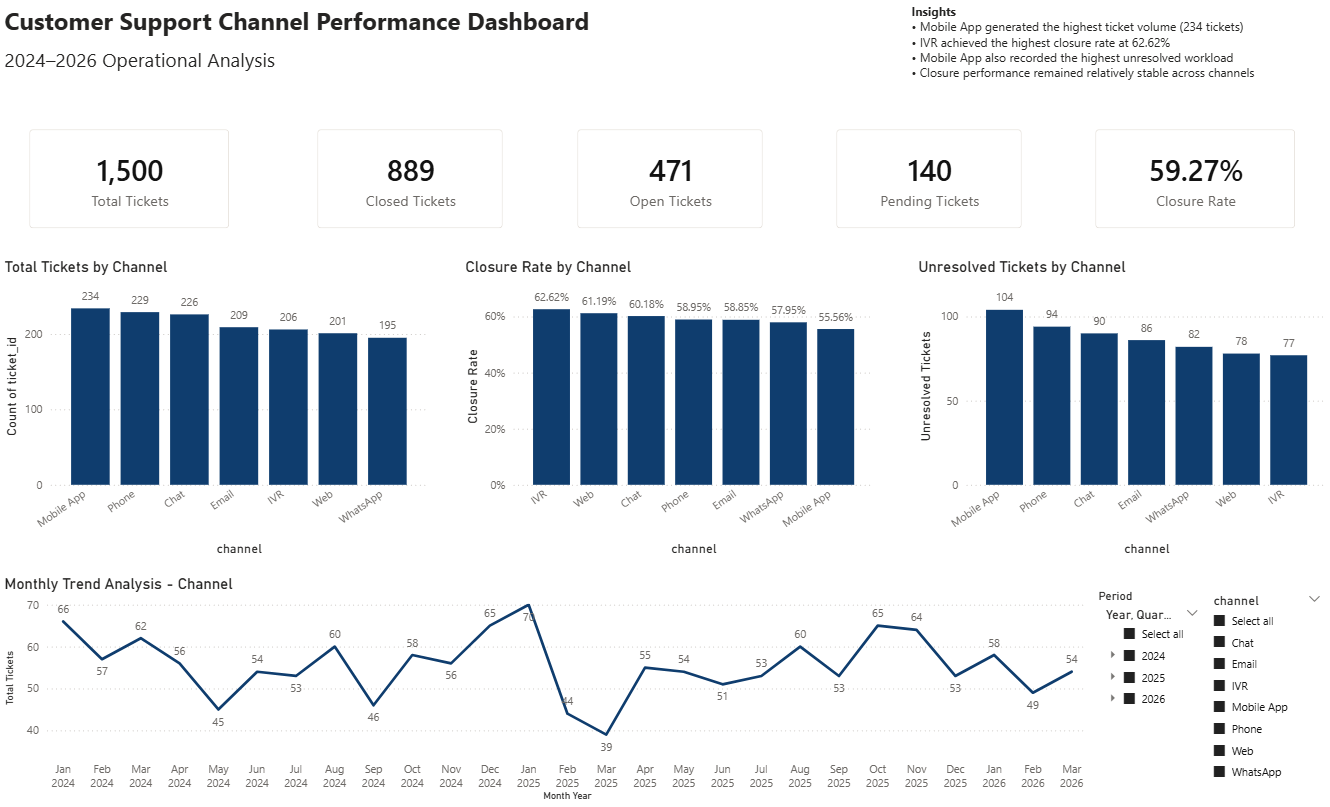

This screenshot's page, from the dashboard's own definition file:
{"tool":"powerbi","page":{"name":"Channel Analysis","canvas":[1480,900],"ordinal":0},"visuals":[{"type":"textbox","box":[0,0,688,48],"z":0,"group":"g1"},{"type":"cardVisual","fields":{"Data":["support_tickets.Total Tickets"]},"box":[16,128,256,144],"z":0},{"type":"textbox","box":[0,48,688,48],"z":1000,"group":"g1"},{"type":"cardVisual","fields":{"Data":["support_tickets.Open Tickets"]},"box":[624,128,240,144],"z":1000},{"type":"cardVisual","fields":{"Data":["support_tickets.Closed Tickets"]},"box":[336,128,240,144],"z":2000},{"type":"cardVisual","fields":{"Data":["support_tickets.Pending Tickets"]},"box":[912,128,240,144],"z":3000},{"type":"cardVisual","fields":{"Data":["support_tickets.Closure Rate"]},"box":[1200,128,256,144],"z":4000},{"type":"columnChart","title":"Total Tickets by Channel","fields":{"Category":["support_tickets.channel"],"Y":["CountNonNull(support_tickets.ticket_id)"]},"box":[0,288,480,336],"z":5000},{"type":"columnChart","title":"Closure Rate by Channel","fields":{"Category":["support_tickets.channel"],"Y":["support_tickets.Closure Rate"]},"box":[512,288,464,336],"z":6000},{"type":"columnChart","title":"Unresolved Tickets by Channel","fields":{"Y":["support_tickets.Unresolved Tickets"],"Category":["support_tickets.channel"]},"box":[1016,288,464,336],"z":7000},{"type":"lineChart","title":"Monthly Trend Analysis - Channel","fields":{"Y":["support_tickets.Total Tickets"],"Category":["support_tickets.Month Year"]},"box":[0,640,1216,256],"z":8000},{"type":"slicer","title":"Period","fields":{"Values":["support_tickets.month_start.Variation.Date Hierarchy.Year","support_tickets.month_start.Variation.Date Hierarchy.Quarter","support_tickets.month_start.Variation.Date Hierarchy.Month","support_tickets.month_start.Variation.Date Hierarchy.Day"]},"box":[1216,656,128,240],"z":9000},{"type":"slicer","title":"Channel","fields":{"Values":["support_tickets.channel"]},"box":[1336,656,144,240],"z":10000},{"type":"group","id":"g1","title":"Group 1","box":[0,0,688,96],"z":11000},{"type":"textbox","box":[1008,0,448,96],"z":12000}]}

Visuals, with their boxes in screenshot pixels (x1, y1, x2, y2), scaled from the page's 1480x900 canvas onto the 1330x807 screenshot:
textbox: x1=0, y1=0, x2=618, y2=43
cardVisual - support_tickets.Total Tickets: x1=14, y1=115, x2=244, y2=244
textbox: x1=0, y1=43, x2=618, y2=86
cardVisual - support_tickets.Open Tickets: x1=561, y1=115, x2=776, y2=244
cardVisual - support_tickets.Closed Tickets: x1=302, y1=115, x2=518, y2=244
cardVisual - support_tickets.Pending Tickets: x1=820, y1=115, x2=1035, y2=244
cardVisual - support_tickets.Closure Rate: x1=1078, y1=115, x2=1308, y2=244
"Total Tickets by Channel" columnChart: x1=0, y1=258, x2=431, y2=560
"Closure Rate by Channel" columnChart: x1=460, y1=258, x2=877, y2=560
"Unresolved Tickets by Channel" columnChart: x1=913, y1=258, x2=1329, y2=560
"Monthly Trend Analysis - Channel" lineChart: x1=0, y1=574, x2=1093, y2=803
"Period" slicer: x1=1093, y1=588, x2=1208, y2=803
"Channel" slicer: x1=1201, y1=588, x2=1329, y2=803
"Group 1" group: x1=0, y1=0, x2=618, y2=86
textbox: x1=906, y1=0, x2=1308, y2=86
